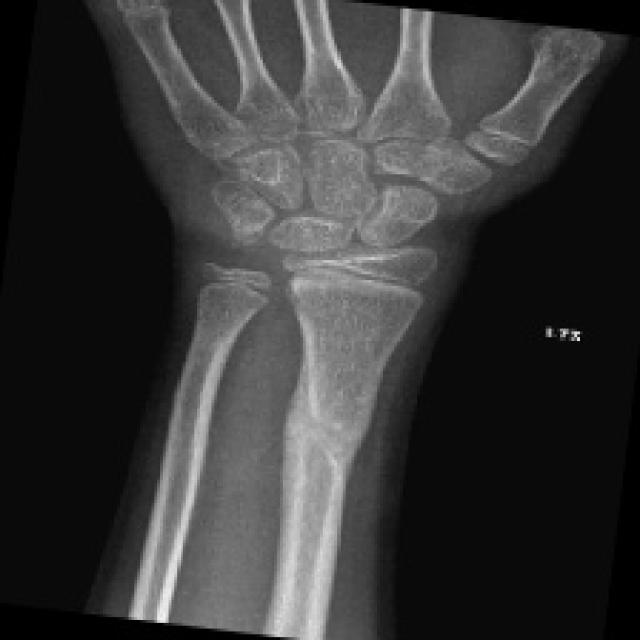fracture: (268, 379, 397, 511)
